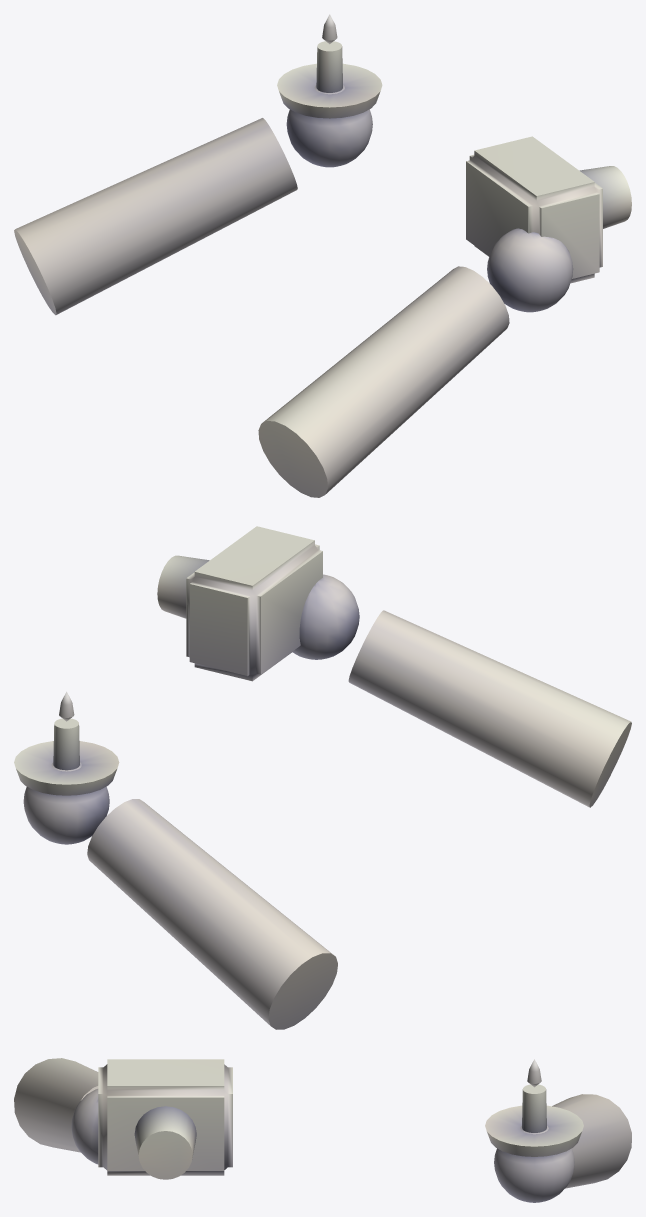
The model's file is hands.glb.
3 views of the same model, one above another, from view 1: azimuth 30°, elevation 25°; view 2: azimuth 150°, elevation 25°; view 3: azimuth 270°, elevation 25° (orthographic). The views are drawn at different scales.
Parts seen in each view (by area): view 1: hands; view 2: hands; view 3: hands, flame.
Part boxes in pixels (left/top/right/bottom): hands: left=14, top=41, right=631, bottom=497; hands: left=14, top=526, right=631, bottom=1029; hands: left=14, top=1058, right=631, bottom=1202; flame: left=527, top=1059, right=541, bottom=1087.
Size of the model in its own units: 0.4804 by 0.2936 by 0.6871.
